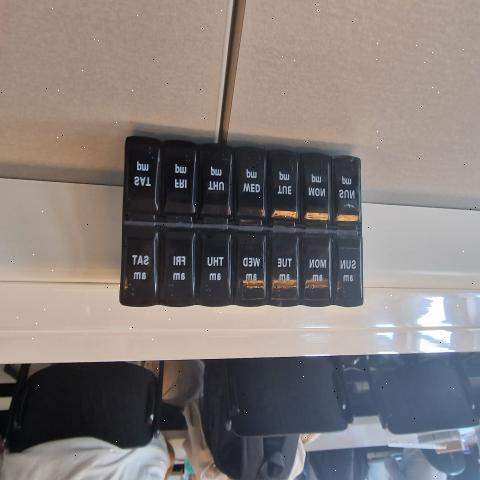PillBox: (110, 131, 394, 320)
